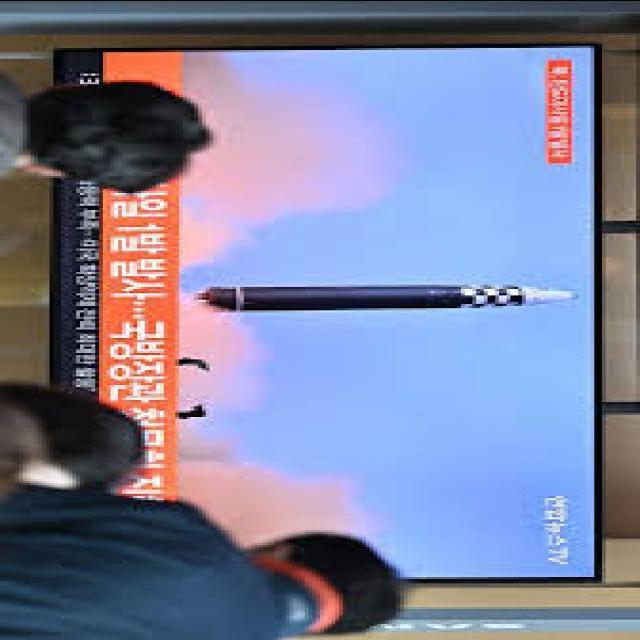missile: (194, 280, 598, 315)
